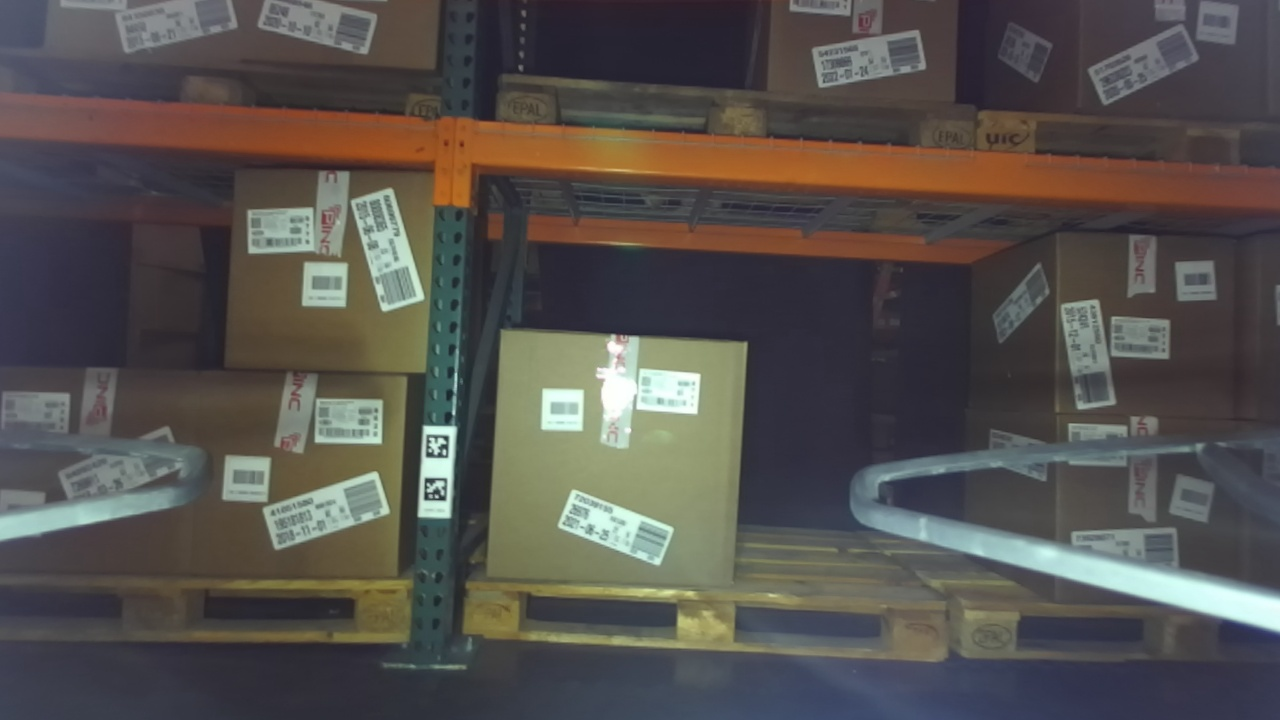box: (471, 310, 761, 614), (185, 342, 424, 592), (204, 143, 437, 397), (6, 337, 216, 602), (1029, 215, 1255, 439), (1034, 413, 1252, 625)
